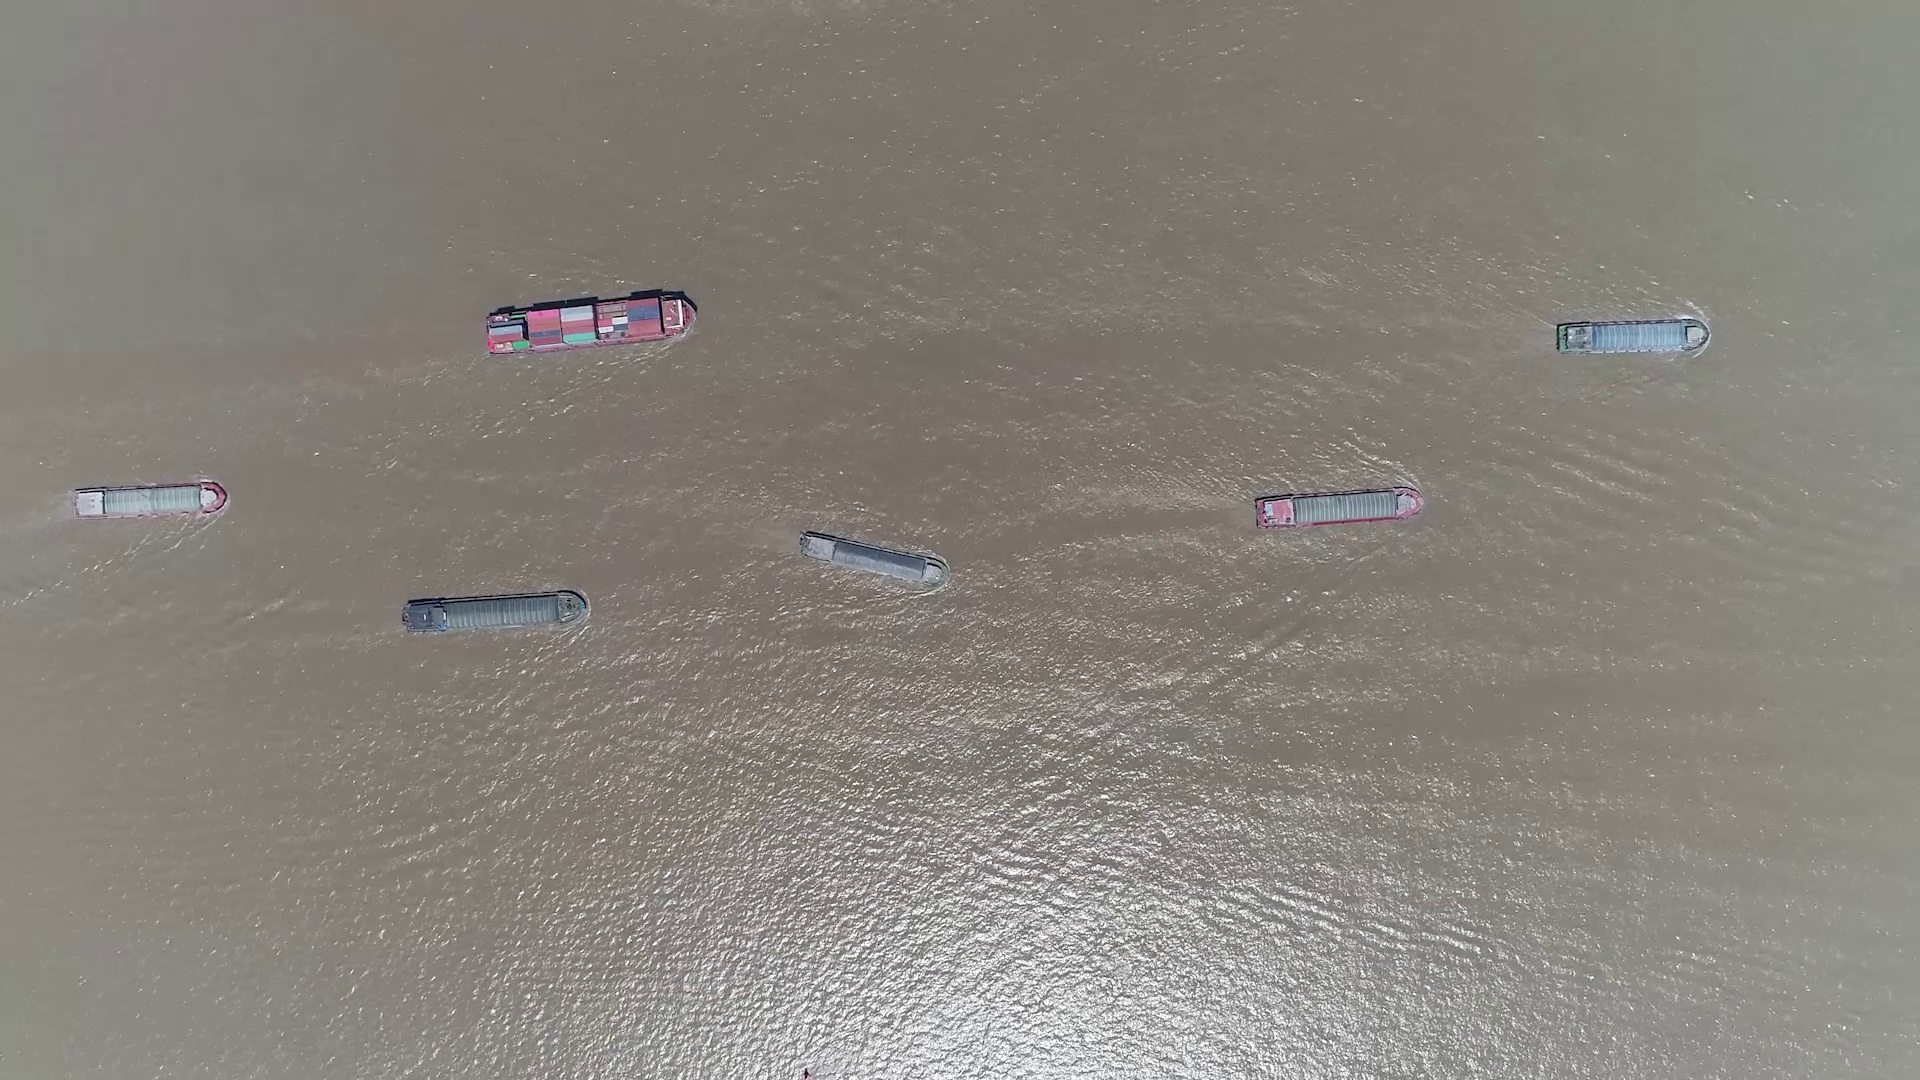ship: (487, 293, 696, 356), (798, 530, 948, 585), (404, 591, 589, 634), (1257, 485, 1423, 527), (73, 483, 225, 520), (1553, 320, 1706, 355)
